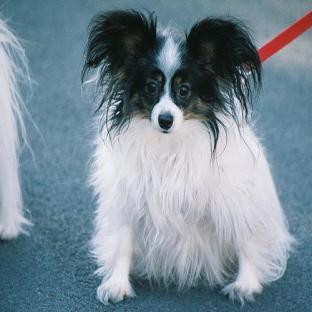Animal: (83, 10, 294, 303)
